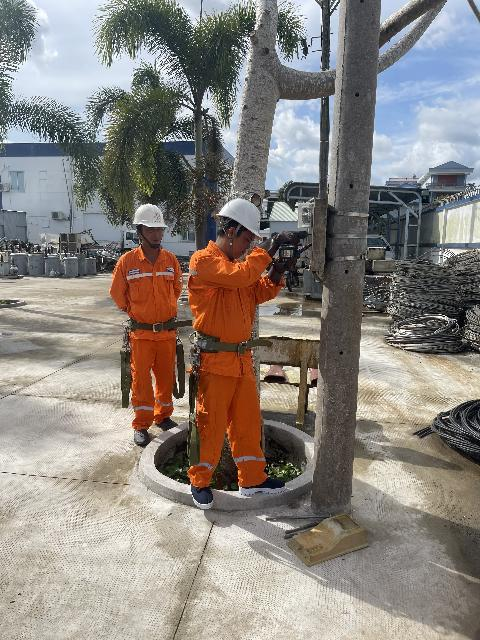harness: (187, 327, 266, 360), (114, 308, 194, 337)
helmet: (207, 195, 269, 241), (129, 193, 167, 233)
shoes: (235, 472, 292, 500), (179, 476, 222, 512), (148, 410, 186, 433), (131, 429, 154, 448)
